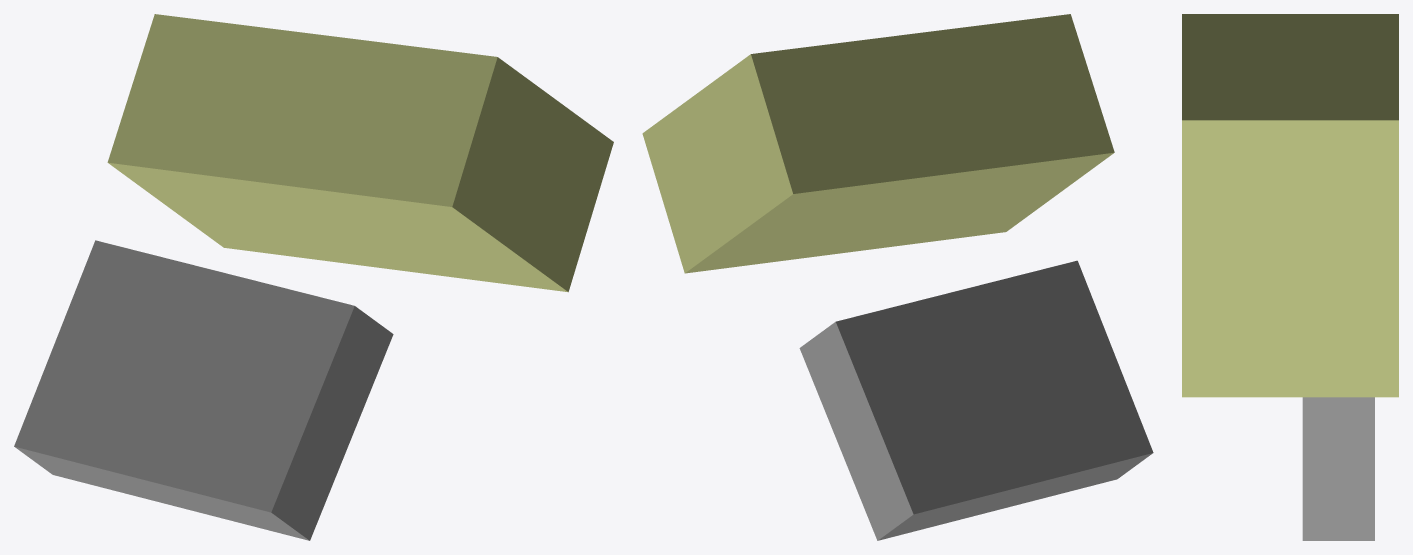
3 renders of one model, left to right at view 1: azimuth 30°, elevation 25°; view 2: azimuth 150°, elevation 25°; view 3: azimuth 270°, elevation 25°, orthographic. The views are drawn at different scales.
Parts seen in each view (by area): view 1: 0_1_1_3_2_3_2_2_1; view 2: 0_1_1_3_2_3_2_2_1; view 3: 0_1_1_3_2_3_2_2_1.
Part boxes in pixels (<box>): 0_1_1_3_2_3_2_2_1: <box>14,14,613,540</box>; 0_1_1_3_2_3_2_2_1: <box>642,14,1153,540</box>; 0_1_1_3_2_3_2_2_1: <box>1182,14,1398,540</box>.
Bounding box in the file's own units: 22.18 × 21.97 × 9.
